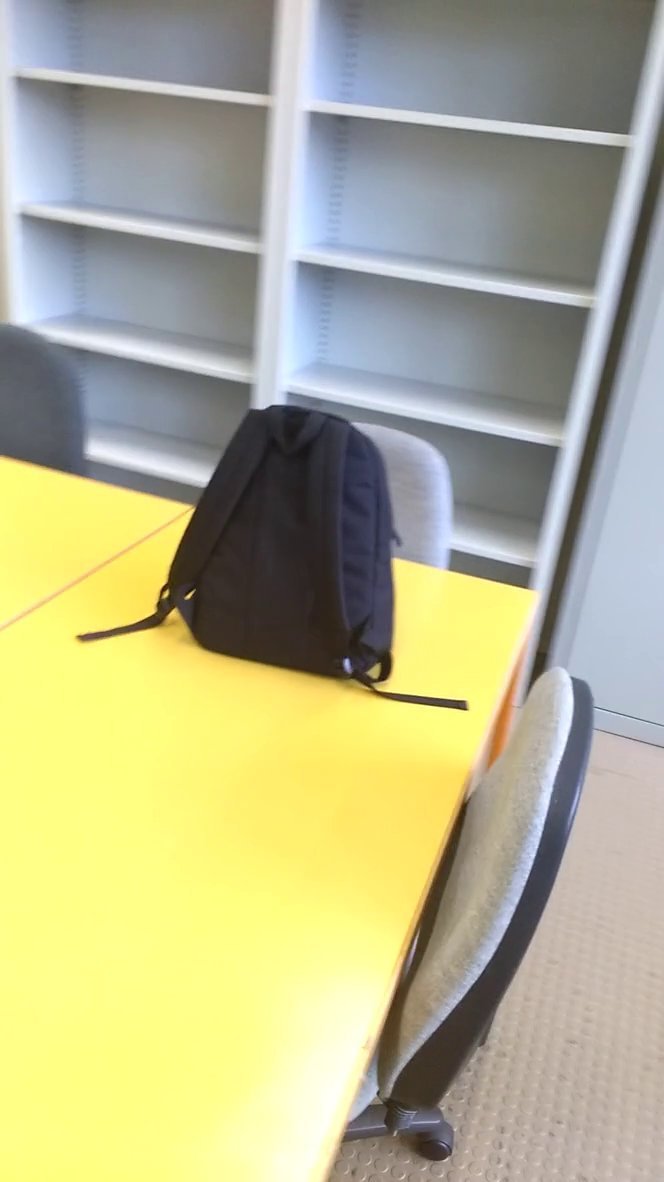bag: (75, 401, 477, 718)
chair: (369, 648, 604, 1158)
